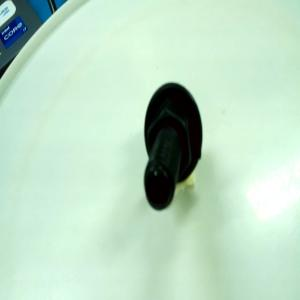parafuso: (143, 82, 203, 212), (144, 81, 203, 211)
